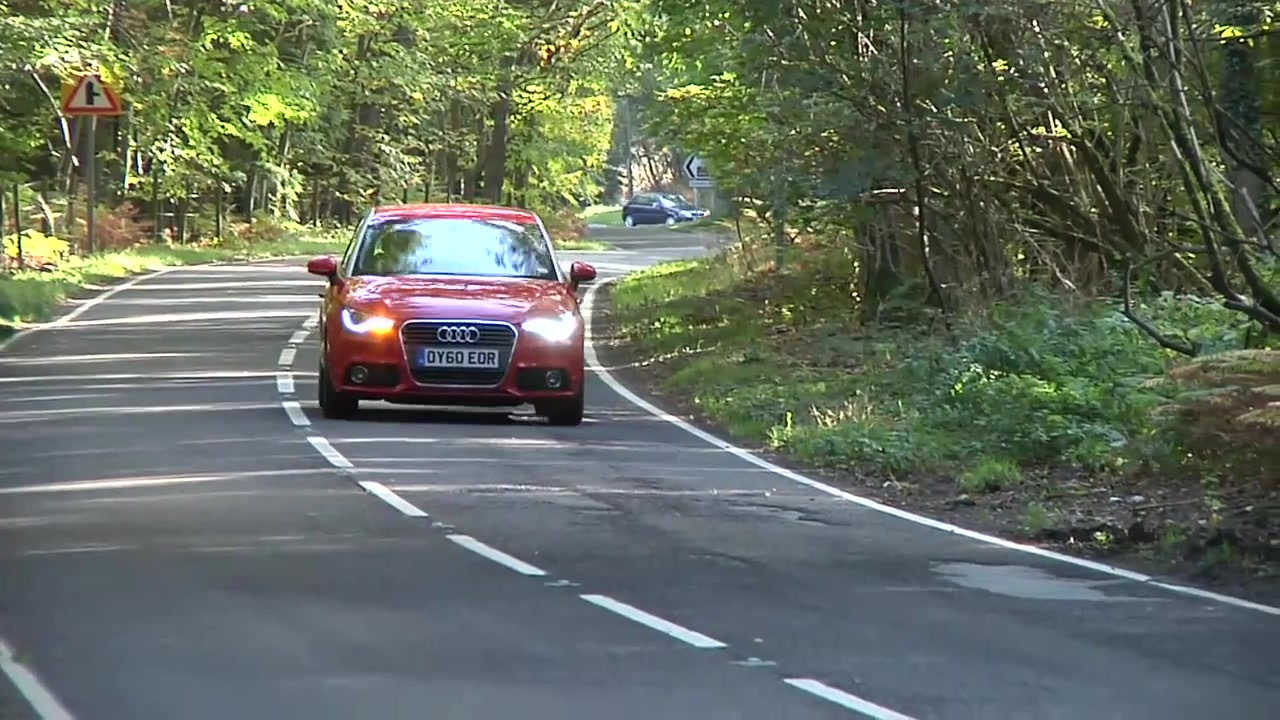car: (311, 196, 599, 429)
